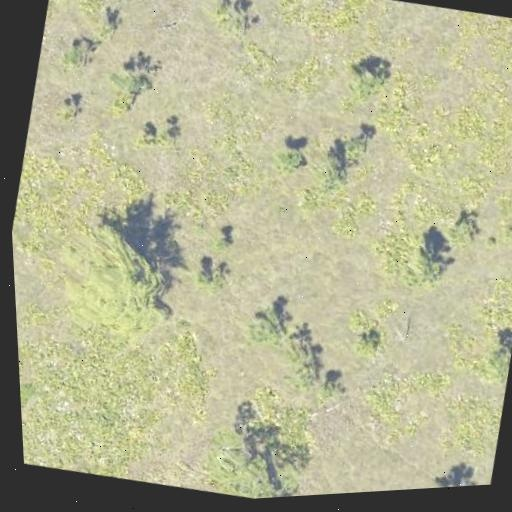tree-top: (55, 225, 178, 345), (199, 439, 296, 502), (107, 48, 159, 118), (280, 329, 327, 390), (204, 0, 267, 40), (468, 333, 512, 386), (346, 56, 392, 102), (404, 246, 451, 290), (58, 32, 102, 79), (312, 149, 355, 197), (246, 306, 290, 352), (443, 205, 484, 250), (267, 144, 303, 179)
